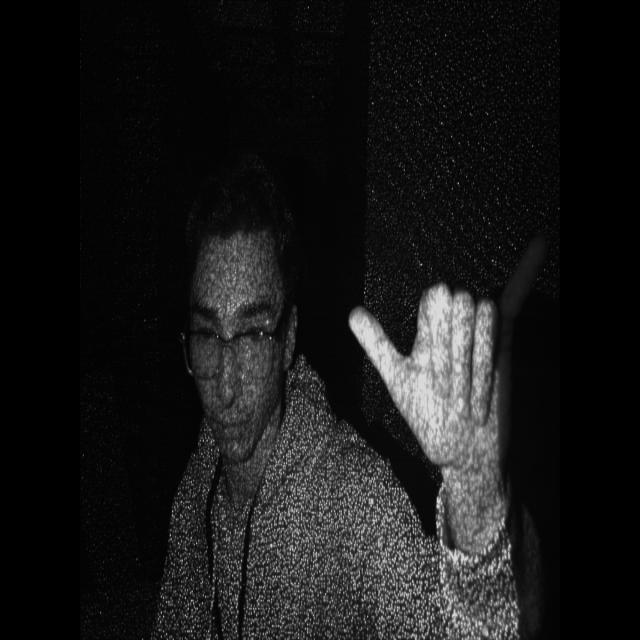Y: (338, 246, 567, 489)
